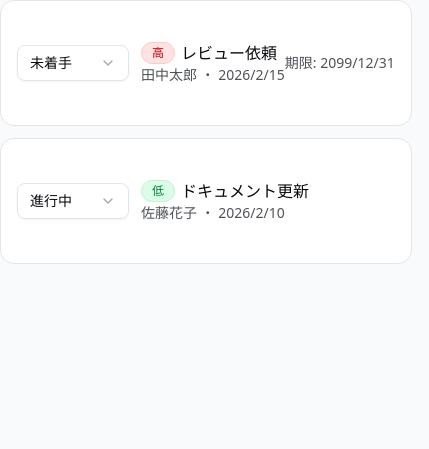
Test: ActionListFull › 行クリックで編集フォームが表示される
Click the element with test id "action-card-action-1". click: click(206, 63)
box: [0,0,412,126]
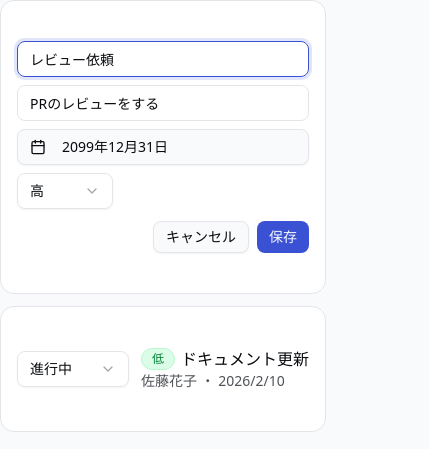
Check: the field showing "レビュー依頼" is shown, box [17,41,309,77]
Check: the button "保存" is shown, box [257,221,309,253]
Check: the button "キャンセル" is shown, box [153,221,249,253]
